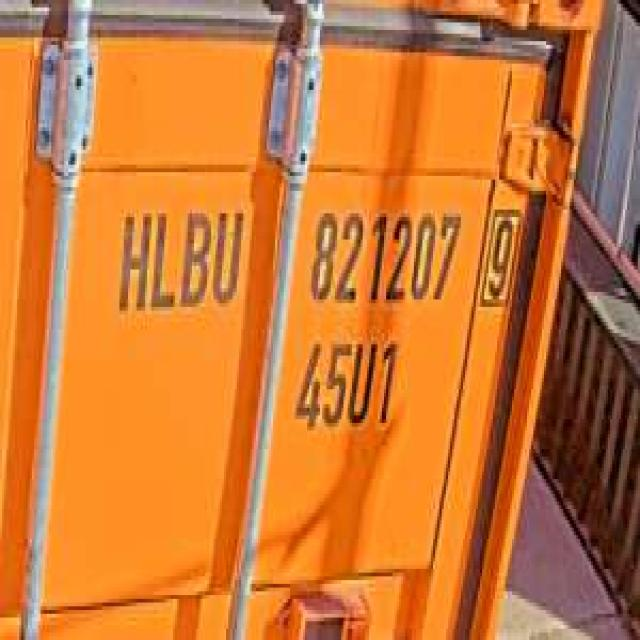dv: (476, 194, 522, 314)
owner: (113, 195, 245, 318)
serial: (307, 198, 461, 314)
size: (294, 329, 399, 438)
